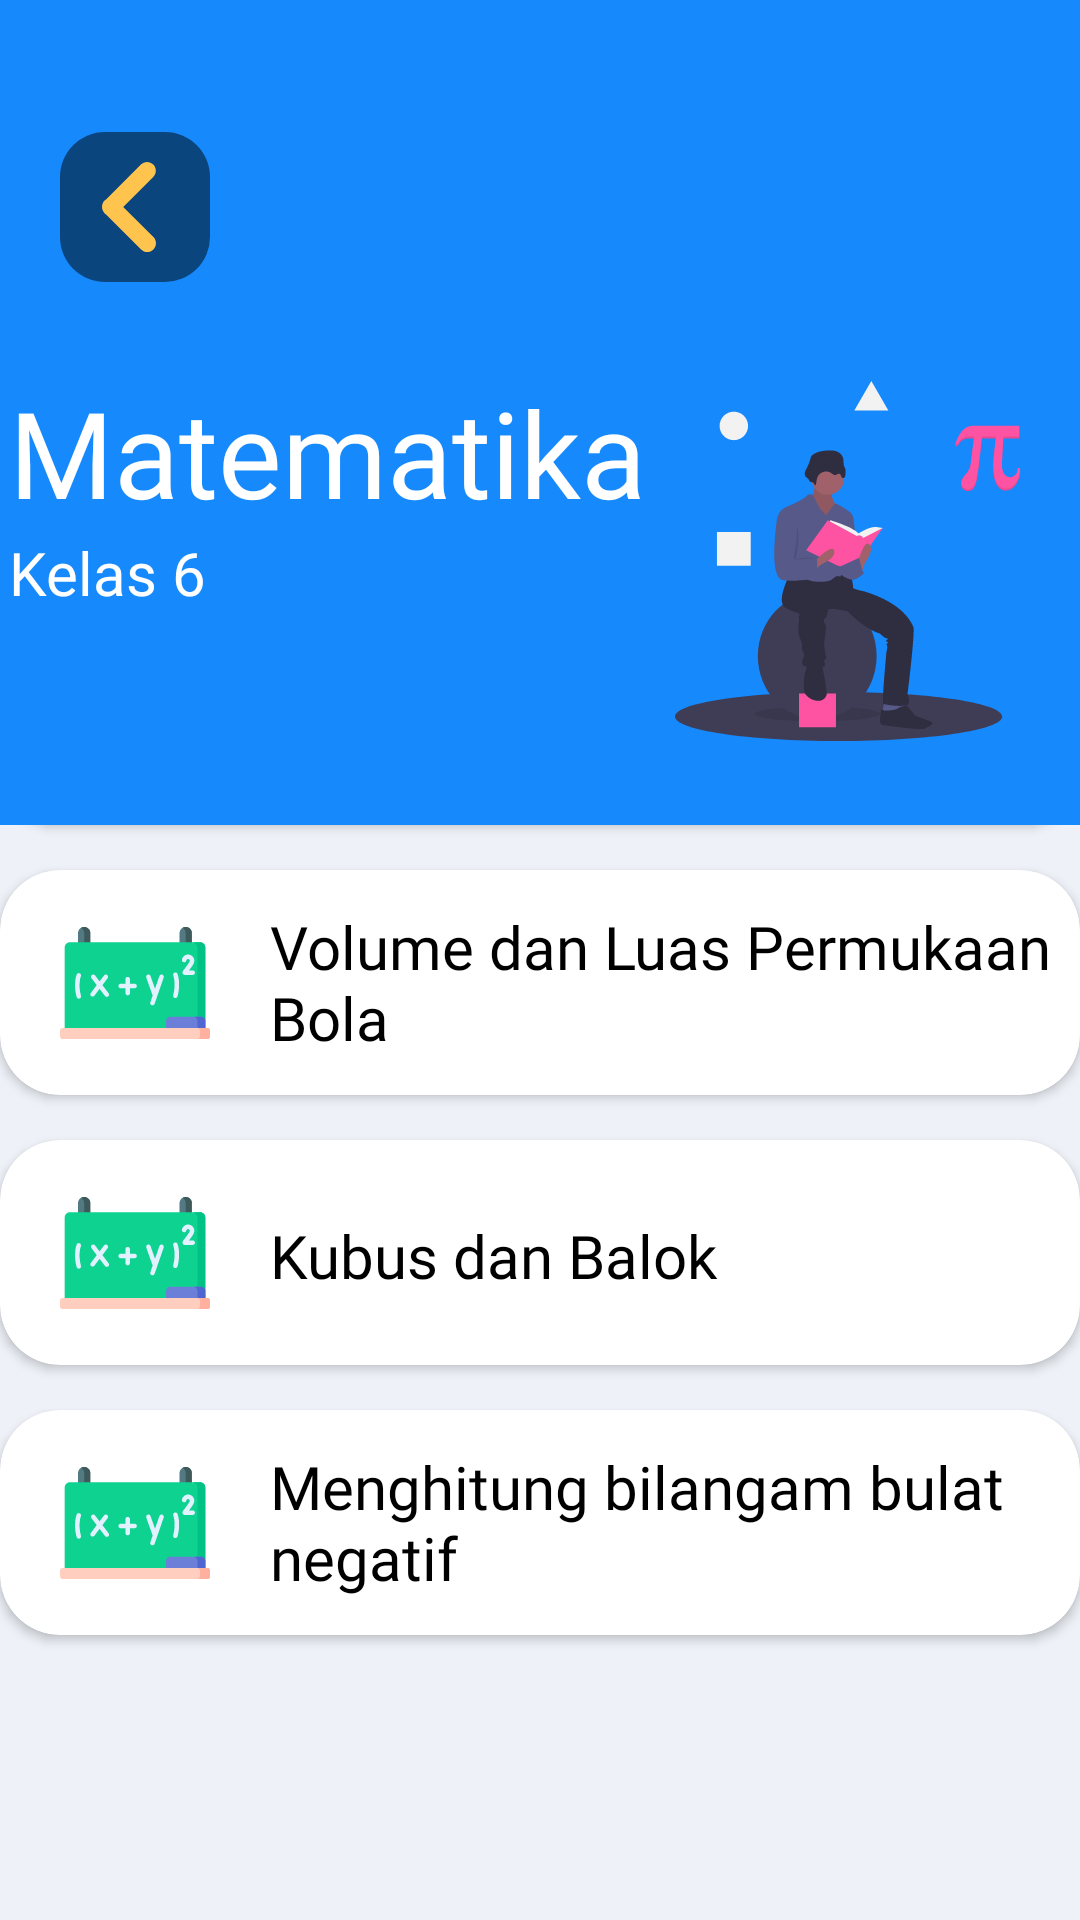

Named icons in this screenshot (1080x1920) and their bounding boxes, [x1=x1, y1=y1, x2=x2, y2=y2]:
back: [x1=60, y1=132, x2=210, y2=282]
